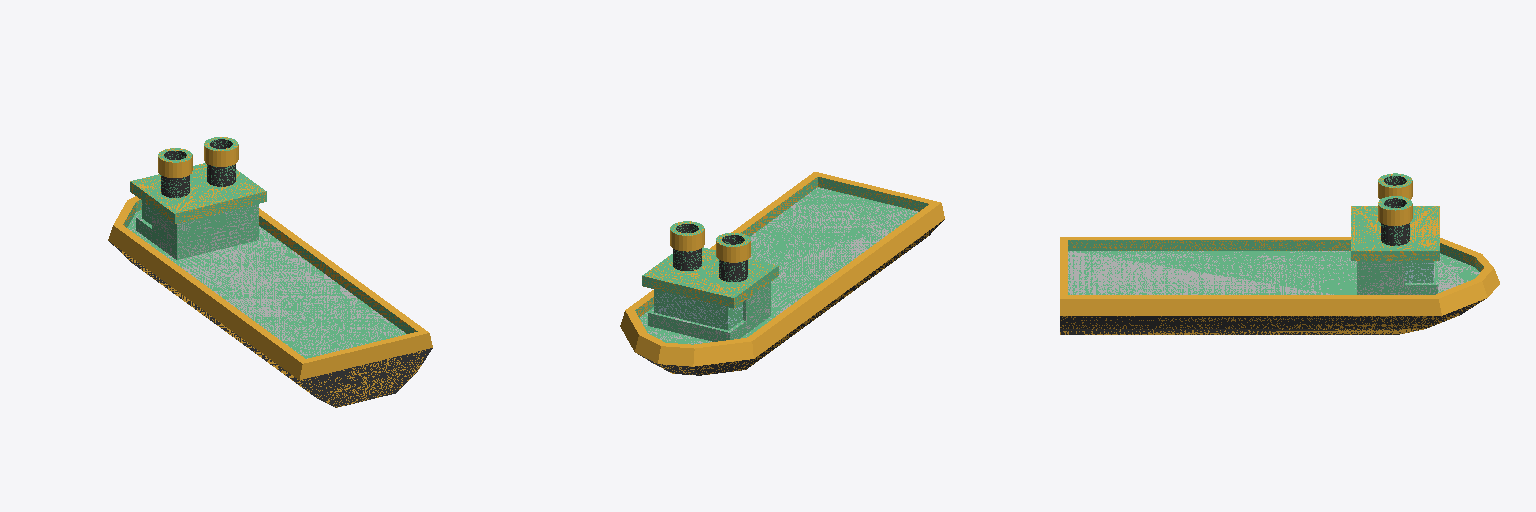
File: boat_004.obj
3 renders of one model, left to right at view 1: azimuth 30°, elevation 25°; view 2: azimuth 150°, elevation 25°; view 3: azimuth 270°, elevation 25°, orthographic.
Parts seen in each view (by area): view 1: boat_004; view 2: boat_004; view 3: boat_004.
Part boxes in pixels (x1,y1,x2,y2): boat_004: (108, 137, 432, 407); boat_004: (620, 172, 944, 375); boat_004: (1060, 173, 1499, 334).
Size of the model in its own units: 3.69 by 3.38 by 10.55.